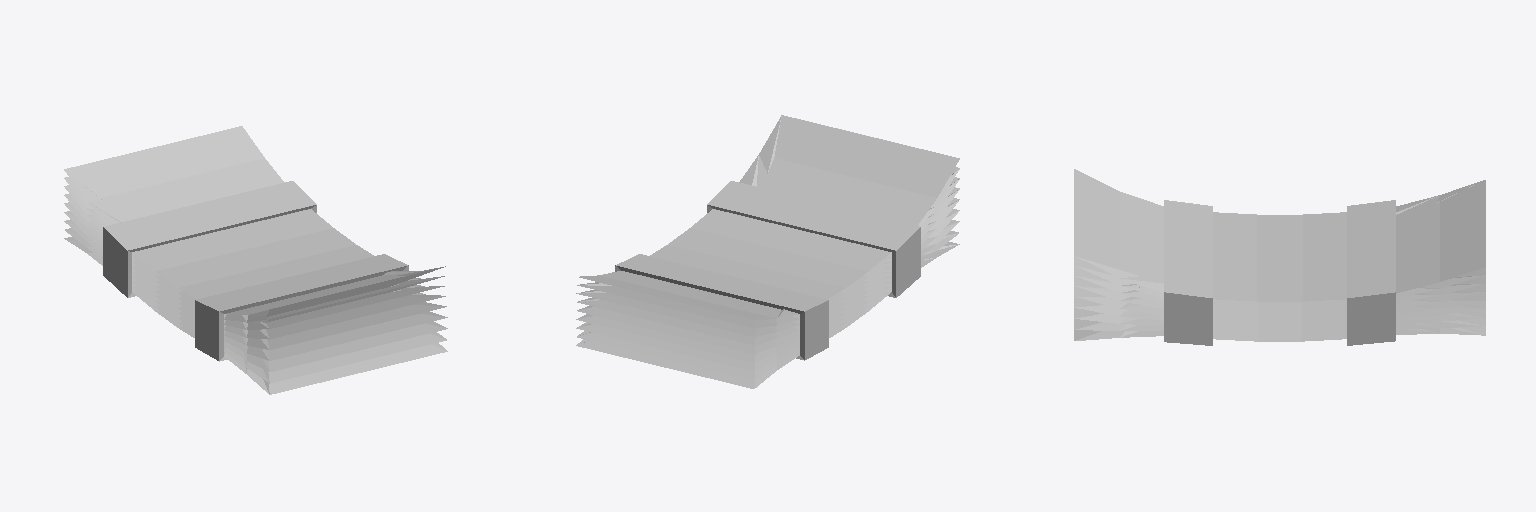
File: cashbundle.obj
3 renders of one model, left to right at view 1: azimuth 30°, elevation 25°; view 2: azimuth 150°, elevation 25°; view 3: azimuth 270°, elevation 25°, orthographic.
Visible parts, largest first — view 1: Cube; view 2: Cube; view 3: Cube.
Part boxes in pixels (x1,y1,x2,y2): Cube: (64, 126, 447, 394); Cube: (576, 115, 959, 388); Cube: (1074, 169, 1485, 345).
Bounding box in the file's own units: 2.12 × 0.9389 × 4.